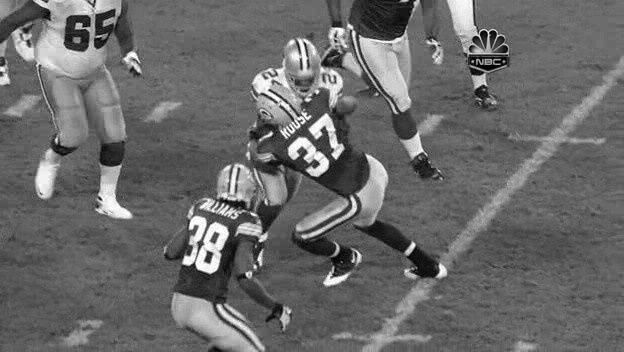person: (284, 46, 323, 95), (283, 46, 322, 95), (285, 46, 324, 95), (284, 45, 323, 94), (284, 47, 323, 96)
target_negative: (189, 227, 549, 325), (96, 139, 290, 317), (462, 153, 528, 235), (242, 211, 469, 223), (530, 90, 544, 190), (537, 311, 542, 328)
